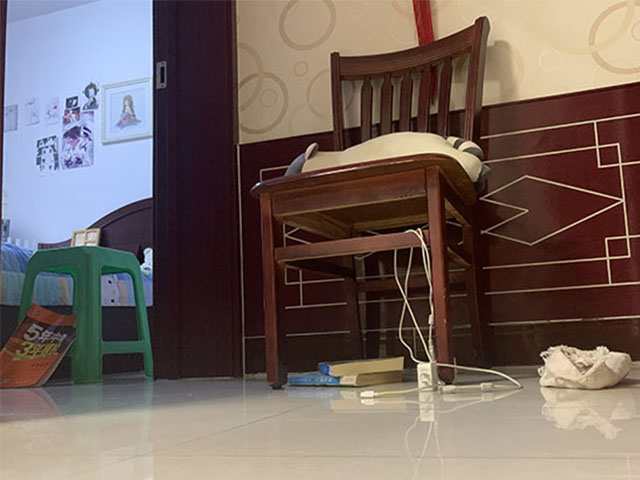bed: (1, 196, 155, 383)
book: (1, 301, 80, 388), (288, 354, 406, 389)
stool: (248, 11, 490, 381), (11, 245, 156, 384)
wire: (393, 223, 522, 398)
